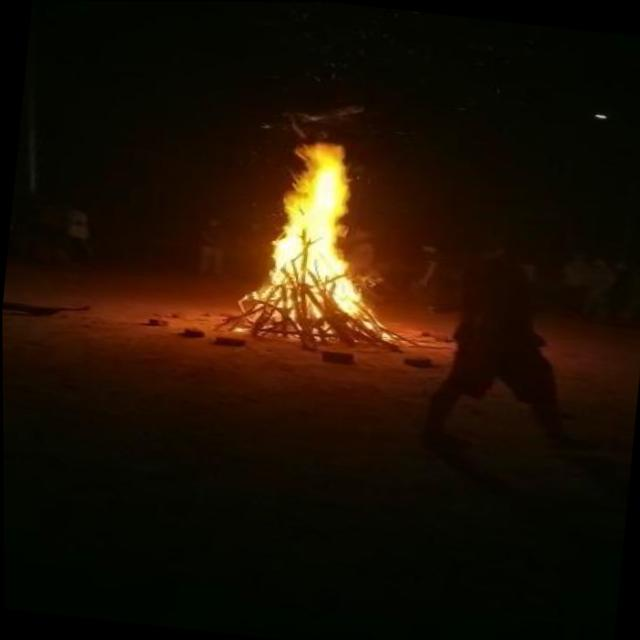fire: (226, 123, 412, 354)
